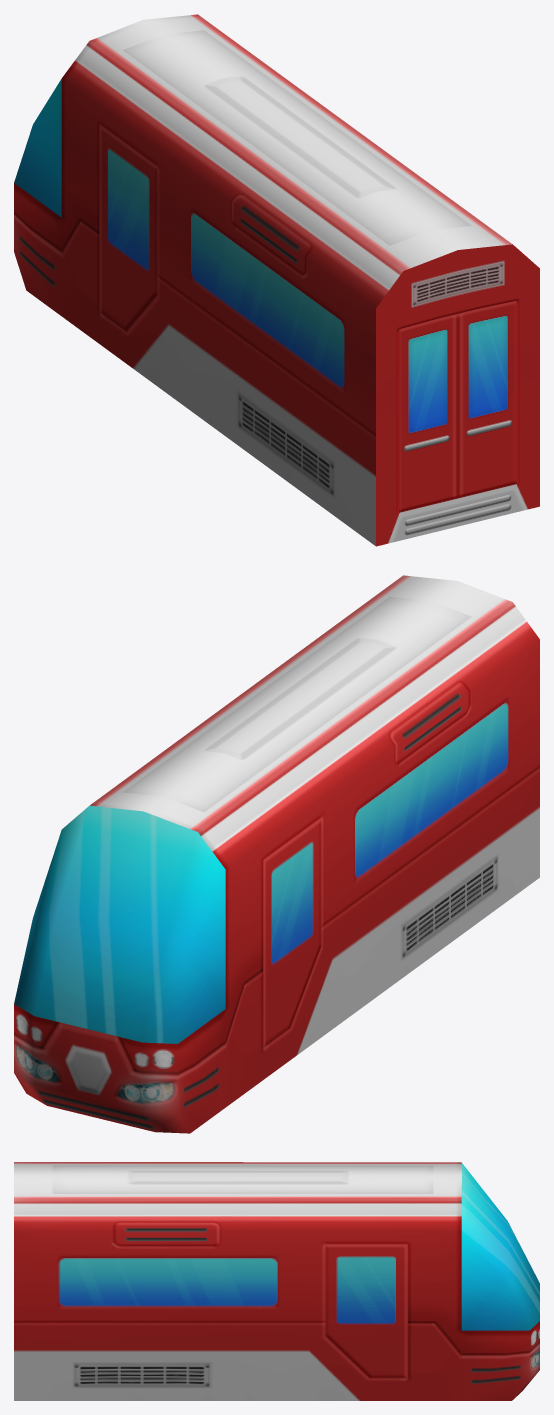
File: Train_Red_Head.fbx
3 views of the same model, one above another, from view 1: azimuth 30°, elevation 25°; view 2: azimuth 150°, elevation 25°; view 3: azimuth 270°, elevation 25° (orthographic). The views are drawn at different scales.
Visible parts, largest first — view 1: Train_Red_Head; view 2: Train_Red_Head; view 3: Train_Red_Head.
Boxes of the visible parts, bbox=[...] form: Train_Red_Head: bbox=[14, 14, 539, 546]; Train_Red_Head: bbox=[14, 575, 539, 1133]; Train_Red_Head: bbox=[14, 1162, 539, 1400].
Bounding box in the file's own units: 481 × 775 × 1878.
